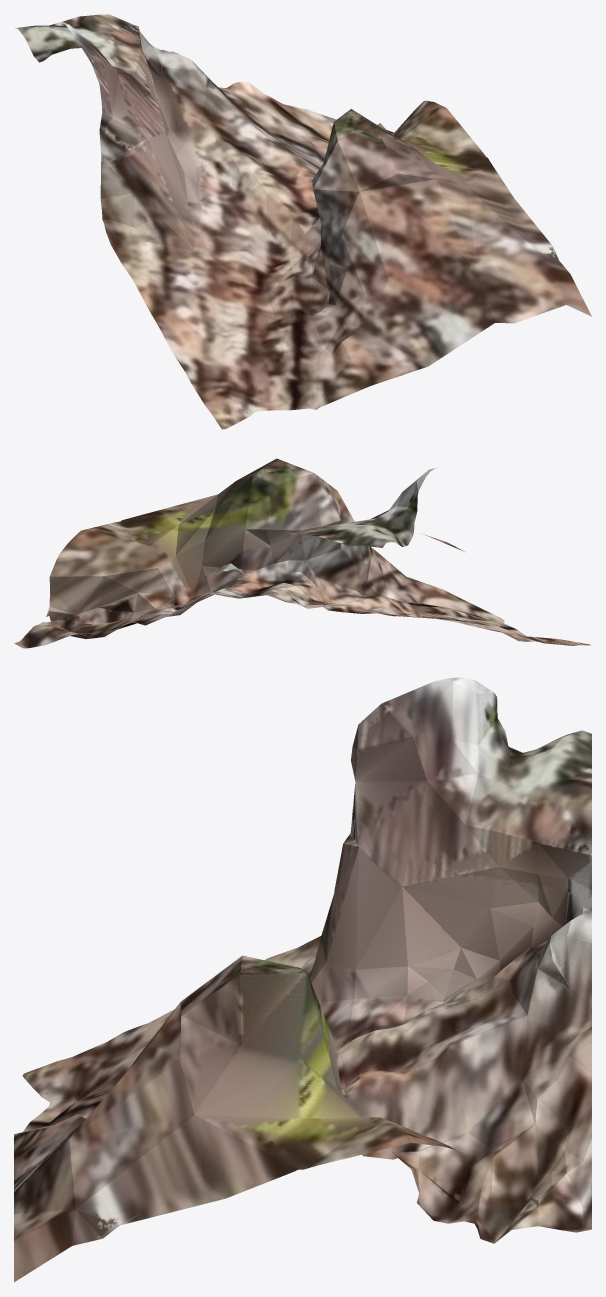
3 views of the same model, one above another, from view 1: azimuth 30°, elevation 25°; view 2: azimuth 150°, elevation 25°; view 3: azimuth 270°, elevation 25° (orthographic). The views are drawn at different scales.
Size of the model in its own units: 1.67 by 1.27 by 1.67.
Materials: 3 (3 with a texture image).
